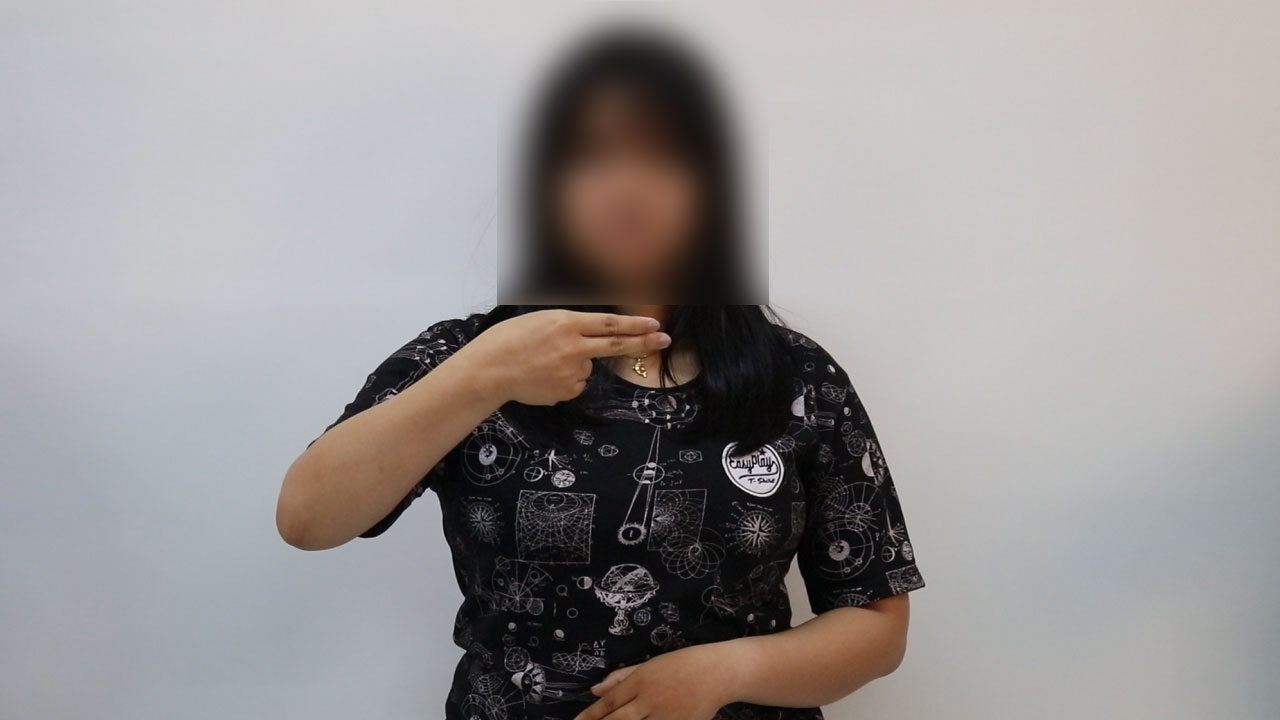hor: (455, 301, 686, 425)
